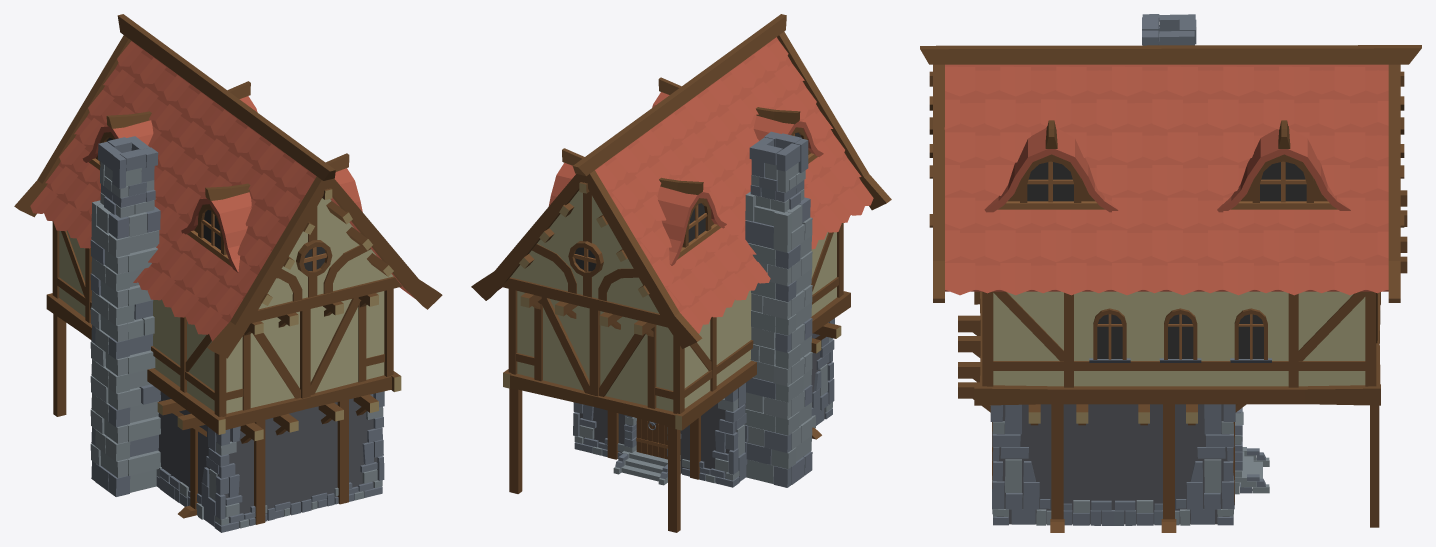
The model's file is House_2.fbx.
The picture shows the model from 3 angles, left to right: view 1: azimuth 30°, elevation 25°; view 2: azimuth 150°, elevation 25°; view 3: azimuth 270°, elevation 25°; orthographic projection. The views are drawn at different scales.
Visible parts, largest first — view 1: House_2; view 2: House_2; view 3: House_2.
Part boxes in pixels (left/top/right/bottom): House_2: left=14, top=14, right=442, bottom=532; House_2: left=471, top=14, right=891, bottom=532; House_2: left=920, top=14, right=1421, bottom=532.
Size of the model in its own units: 222 by 325 by 342.
